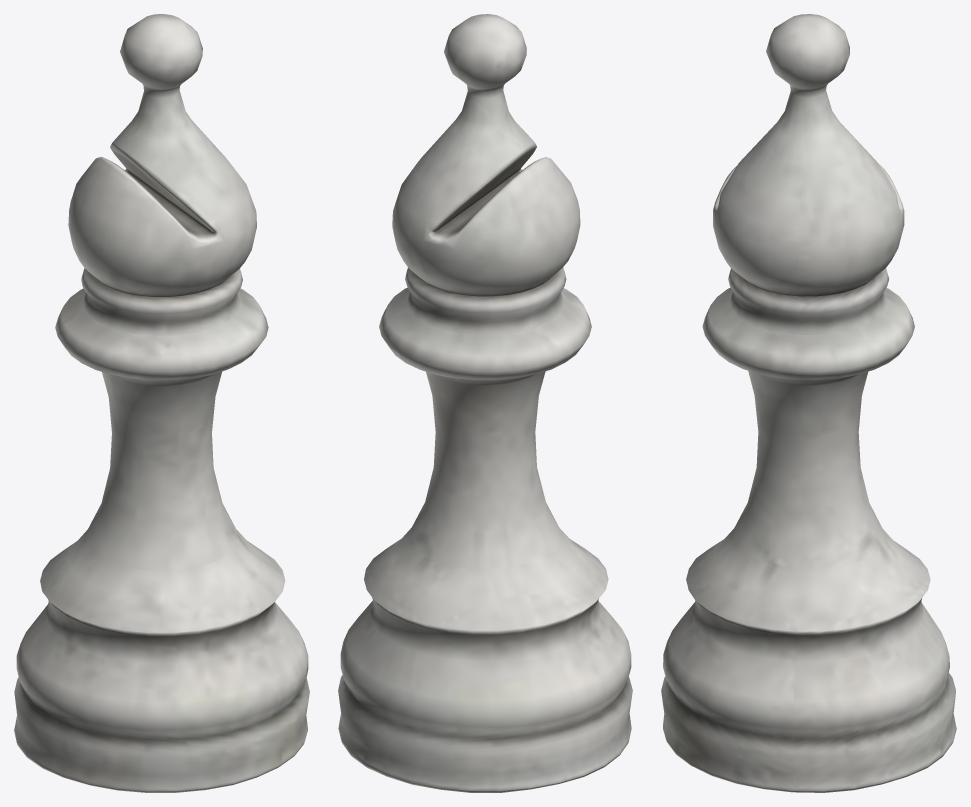
File: bishop_white.glb
3 views of the same model, side by side, from view 1: azimuth 30°, elevation 25°; view 2: azimuth 150°, elevation 25°; view 3: azimuth 270°, elevation 25° (orthographic).
Visible parts, largest first — view 1: piece_bishop_white_01; view 2: piece_bishop_white_01; view 3: piece_bishop_white_01.
Boxes of the visible parts, <box> form: piece_bishop_white_01: <box>14,14,309,792</box>; piece_bishop_white_01: <box>338,14,632,792</box>; piece_bishop_white_01: <box>661,14,956,792</box>.
Bounding box in the file's own units: 0.0322 × 0.0858 × 0.0322.
1 material, 1 textured.
